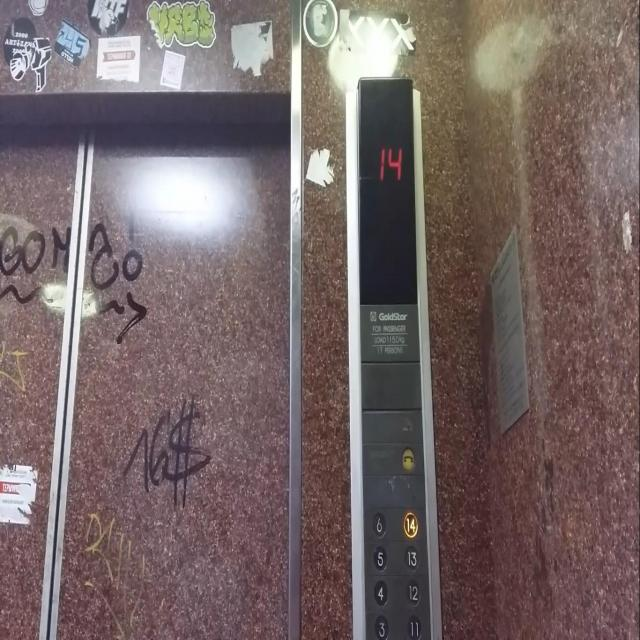11: (406, 613, 421, 639)
12: (406, 579, 420, 606)
13: (403, 543, 418, 570)
14: (402, 510, 418, 538)
3: (373, 611, 389, 639)
4: (372, 576, 389, 606)
5: (372, 544, 387, 571)
6: (371, 511, 386, 537)
call: (400, 446, 416, 472)
led: (355, 71, 421, 309)
